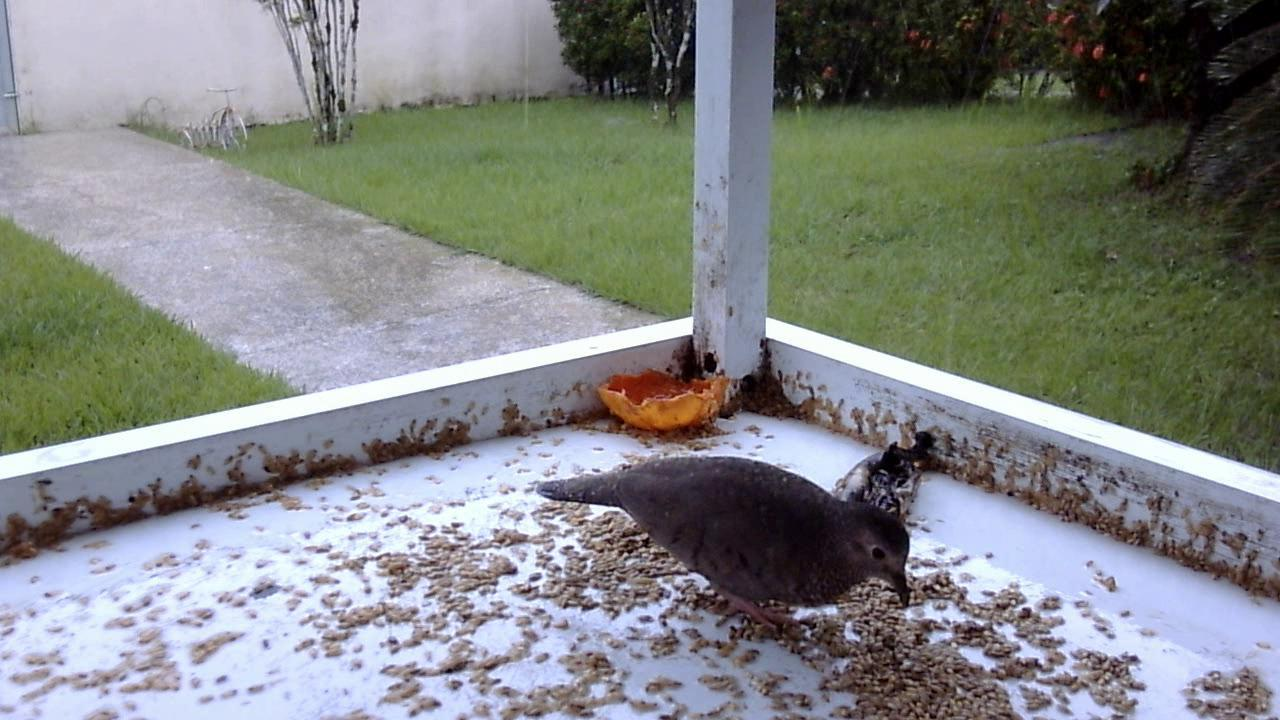rolinha: (529, 439, 919, 656)
